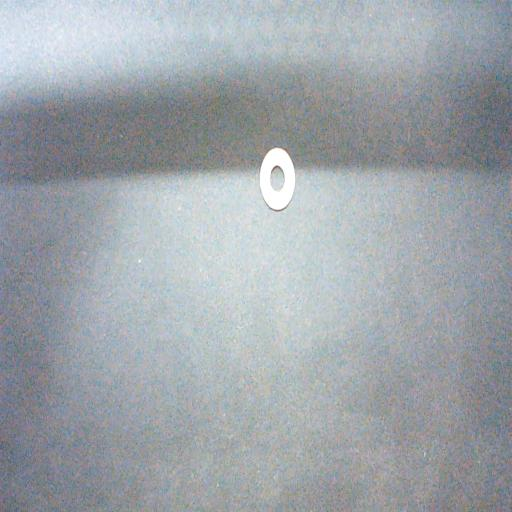washer: (259, 147, 295, 211)
